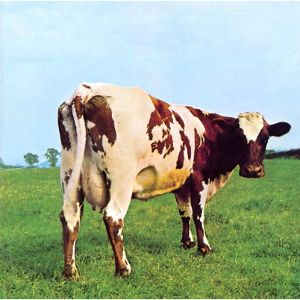cow: (54, 80, 292, 279)
